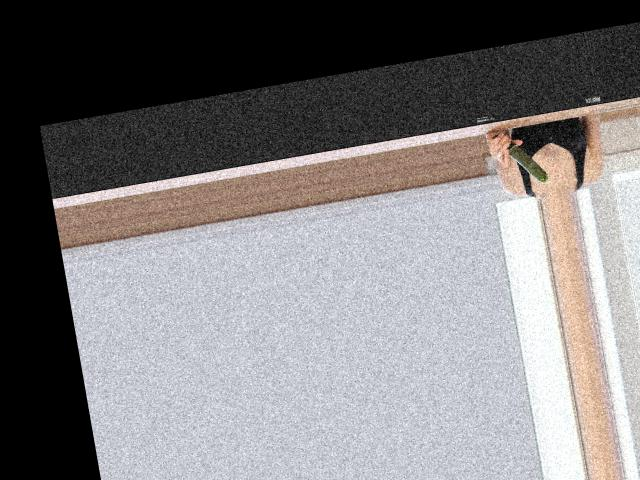cucumber: (491, 127, 548, 191)
